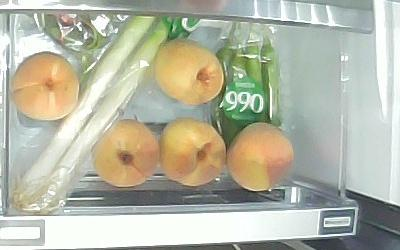peach: (154, 38, 222, 106), (93, 119, 161, 187), (228, 121, 294, 191), (159, 119, 226, 187), (12, 52, 78, 120)
